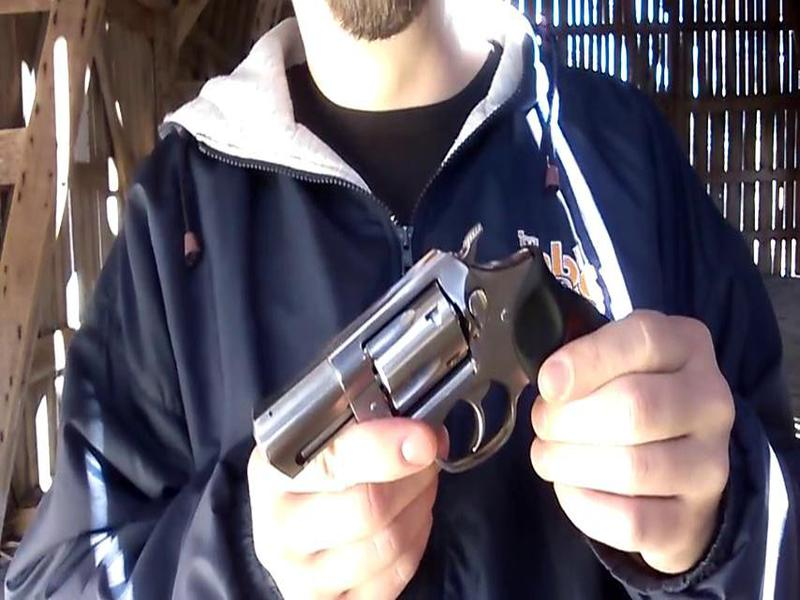Revolver: (227, 221, 622, 482)
